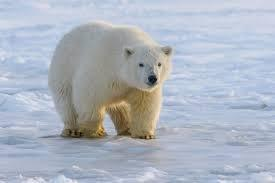bear: (49, 21, 172, 140)
